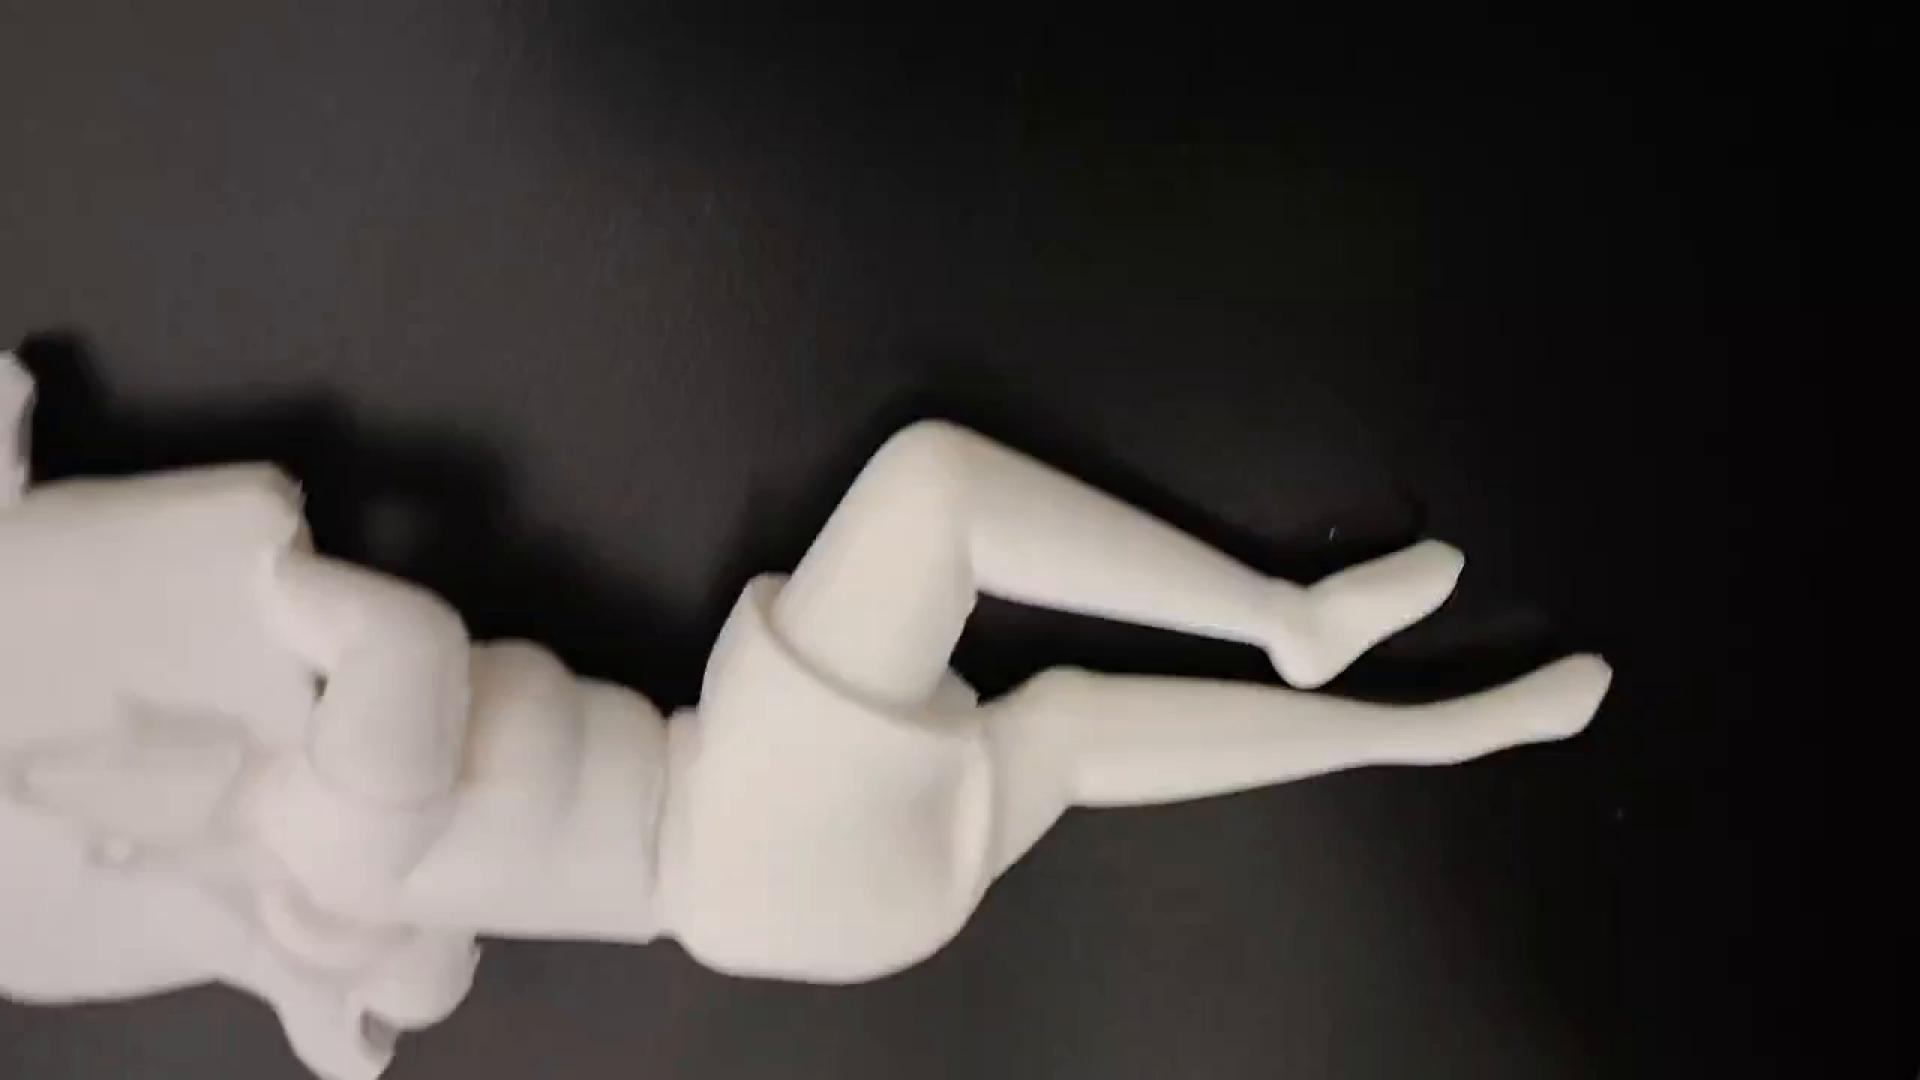Good-style: (0, 268, 1676, 1080)
